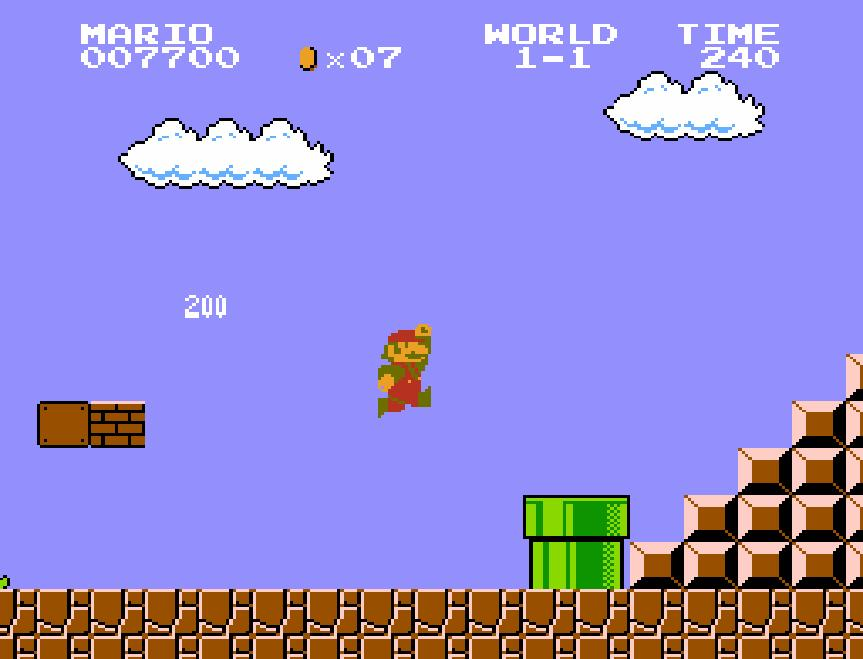big_mario: (376, 322, 434, 420)
